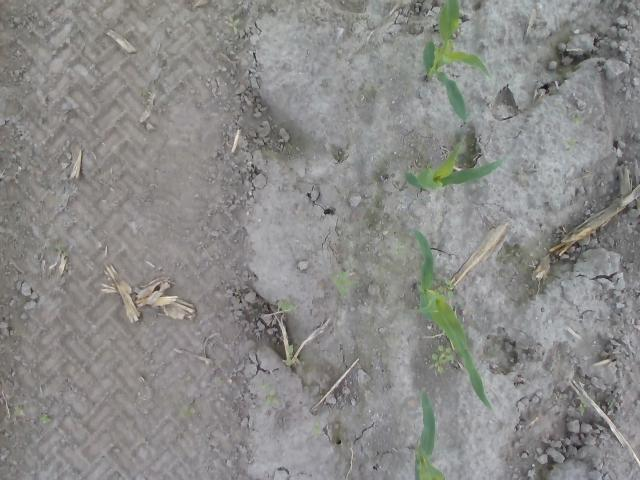Maize: (410, 227, 493, 409), (422, 0, 491, 124), (400, 142, 510, 193), (411, 386, 446, 480)
Weeds: (329, 271, 361, 299), (430, 340, 454, 376), (437, 280, 455, 299), (226, 15, 242, 35), (264, 388, 280, 405), (279, 302, 294, 311), (14, 406, 26, 417), (40, 414, 50, 424), (575, 114, 584, 124), (580, 400, 586, 413), (288, 344, 296, 353)
